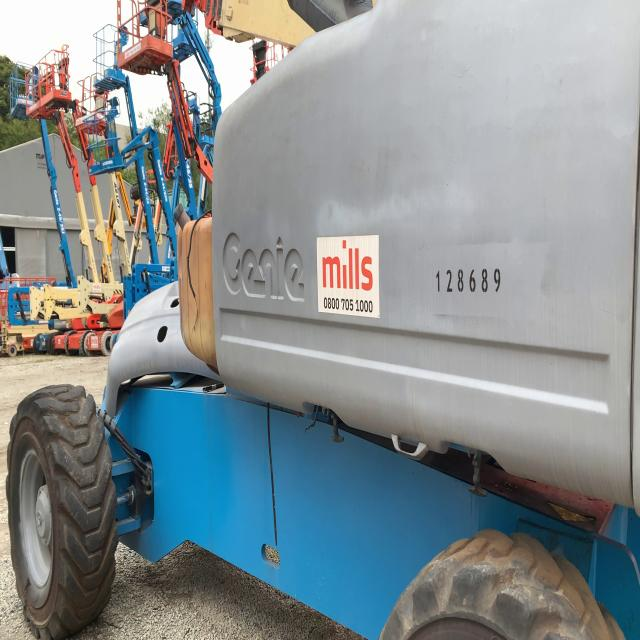Adesivos: (316, 233, 381, 320)
